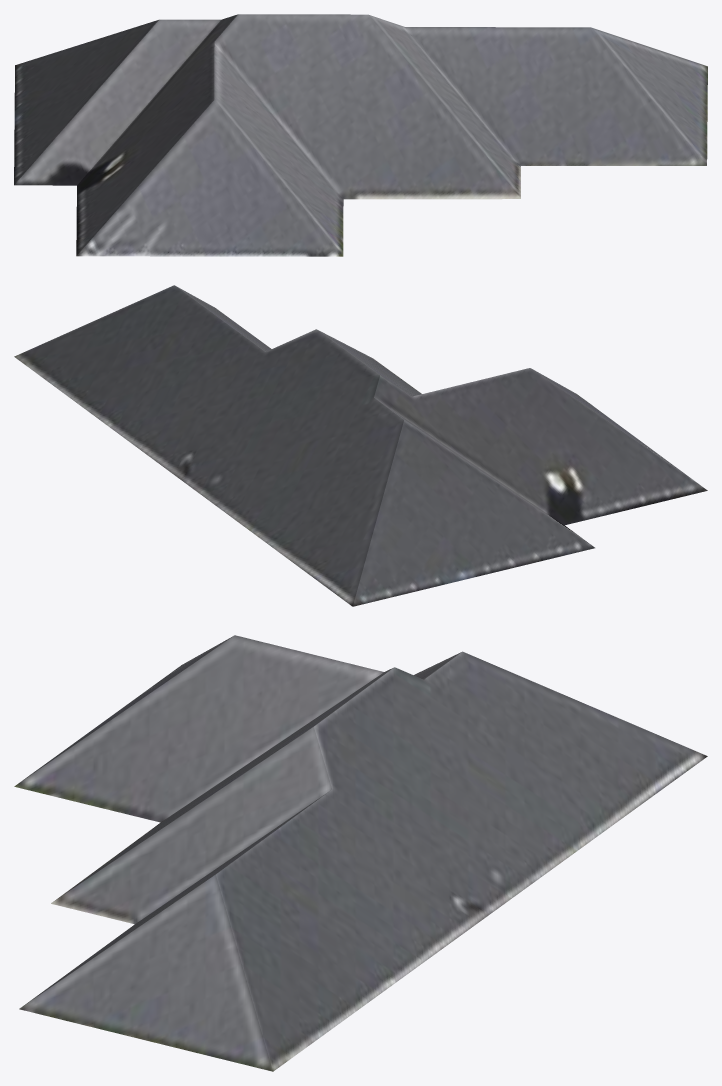
File: CG10_500_039068_0051_roof.obj
3 views of the same model, one above another, from view 1: azimuth 30°, elevation 25°; view 2: azimuth 150°, elevation 25°; view 3: azimuth 270°, elevation 25° (orthographic). The views are drawn at different scales.
Parts seen in each view (by area): view 1: CG10_500_039068_0051_roof; view 2: CG10_500_039068_0051_roof; view 3: CG10_500_039068_0051_roof.
Boxes of the visible parts, left/top/right/bottom form: CG10_500_039068_0051_roof: left=14, top=14, right=707, bottom=256; CG10_500_039068_0051_roof: left=14, top=285, right=707, bottom=606; CG10_500_039068_0051_roof: left=14, top=635, right=707, bottom=1071.
Bounding box in the file's own units: 411 × 70 × 296.
1 material, 1 textured.
